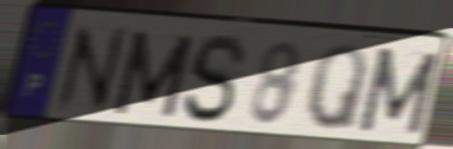8: (247, 38, 303, 127)
M: (354, 44, 444, 138), (109, 27, 198, 121)
N: (52, 22, 130, 117)
Q: (302, 41, 371, 135)
S: (179, 30, 251, 127)
